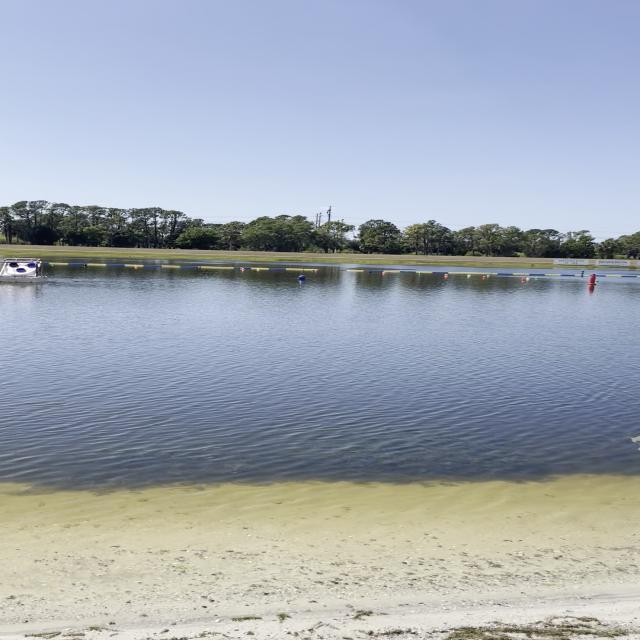buoy: (294, 274, 308, 284), (520, 278, 530, 283)
